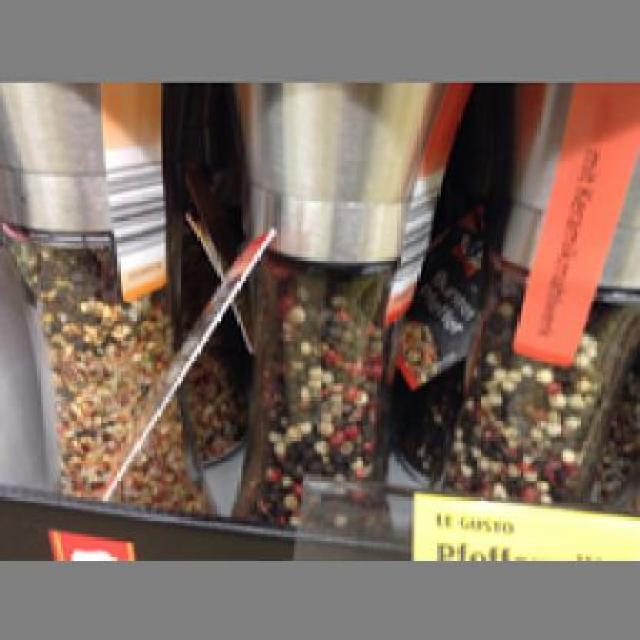Spices: (234, 80, 466, 546), (0, 79, 217, 512), (422, 80, 632, 503)
